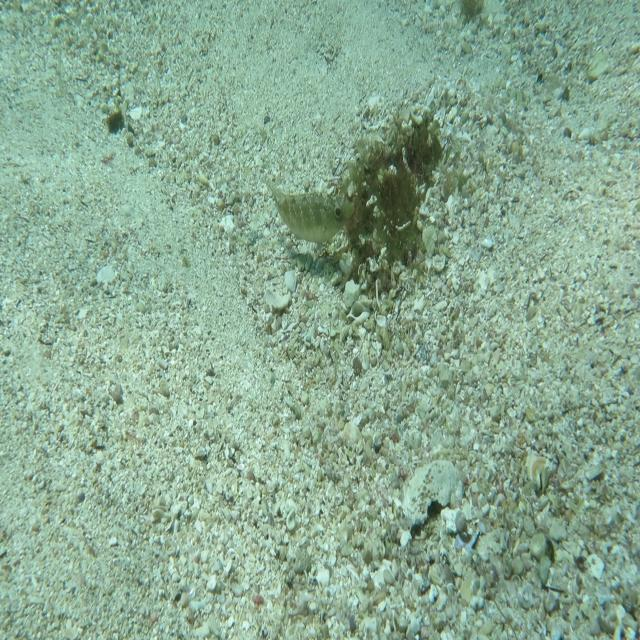MAN: (260, 172, 356, 248)
core_nest: (408, 125, 442, 160)
nest: (339, 102, 456, 288)
vegetation: (106, 108, 128, 135), (459, 0, 485, 21)
